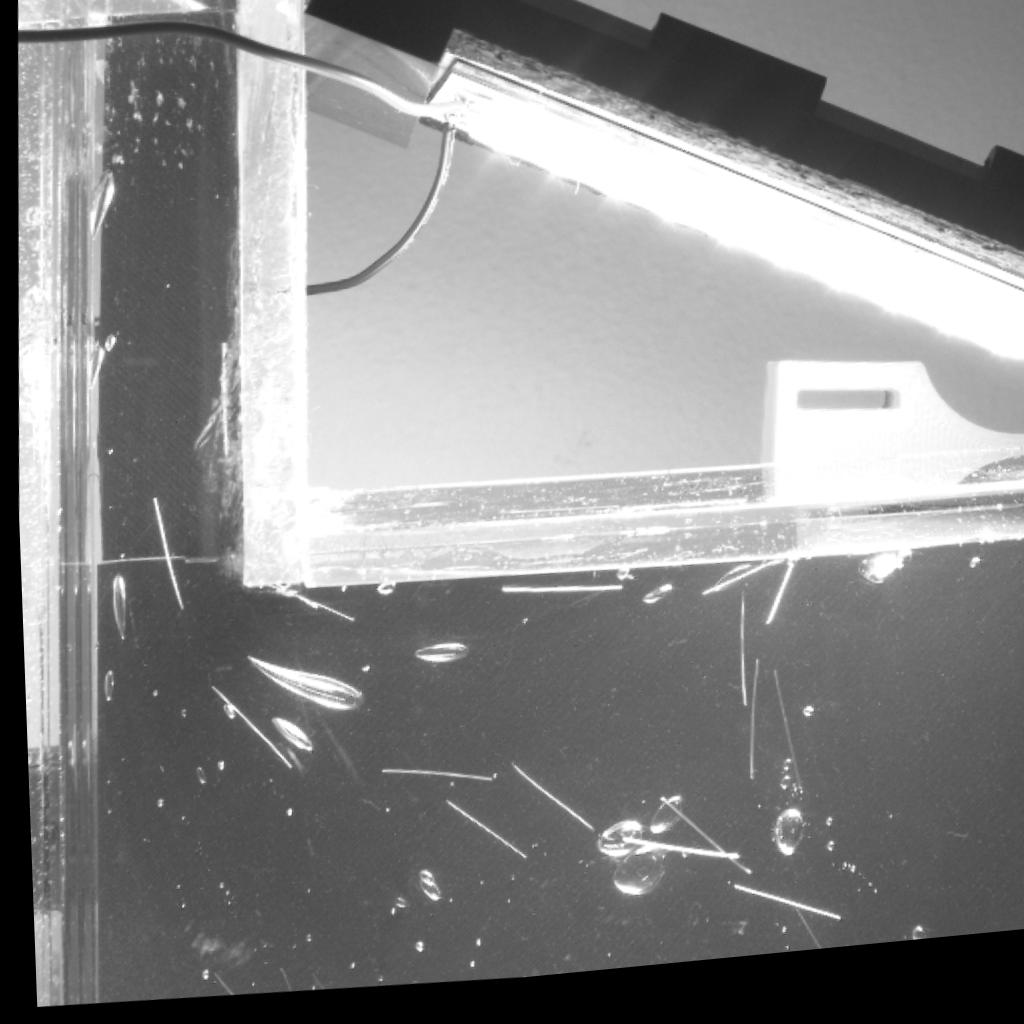Fiber: (647, 800, 749, 893), (200, 680, 292, 780), (499, 765, 589, 843), (436, 805, 524, 873), (258, 576, 353, 635), (723, 893, 838, 941), (143, 491, 180, 620), (611, 841, 733, 875), (765, 677, 796, 805), (690, 574, 775, 616), (368, 767, 490, 795), (753, 571, 795, 646), (738, 662, 759, 799), (770, 914, 821, 965), (212, 0, 235, 79), (492, 592, 620, 606), (732, 601, 744, 724), (212, 341, 224, 462), (203, 969, 233, 999), (266, 967, 288, 996)
